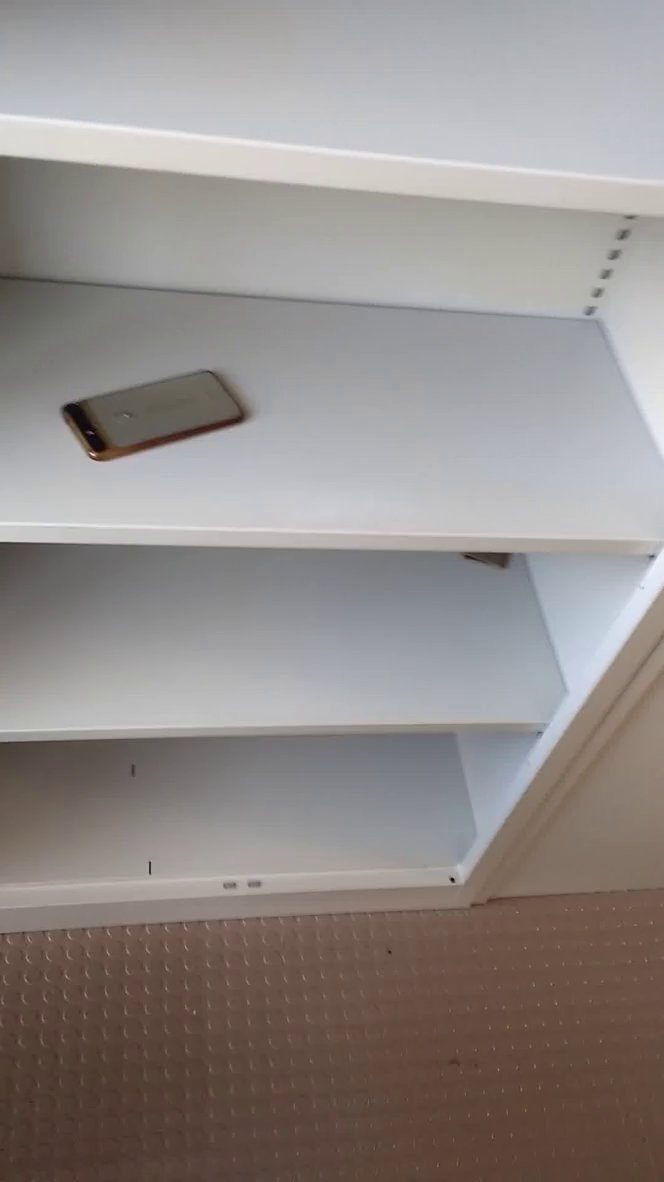phone: (51, 362, 259, 469)
